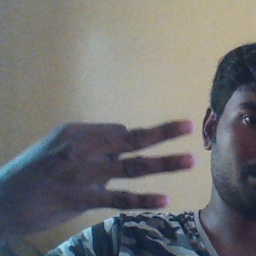K: (10, 117, 196, 218)
